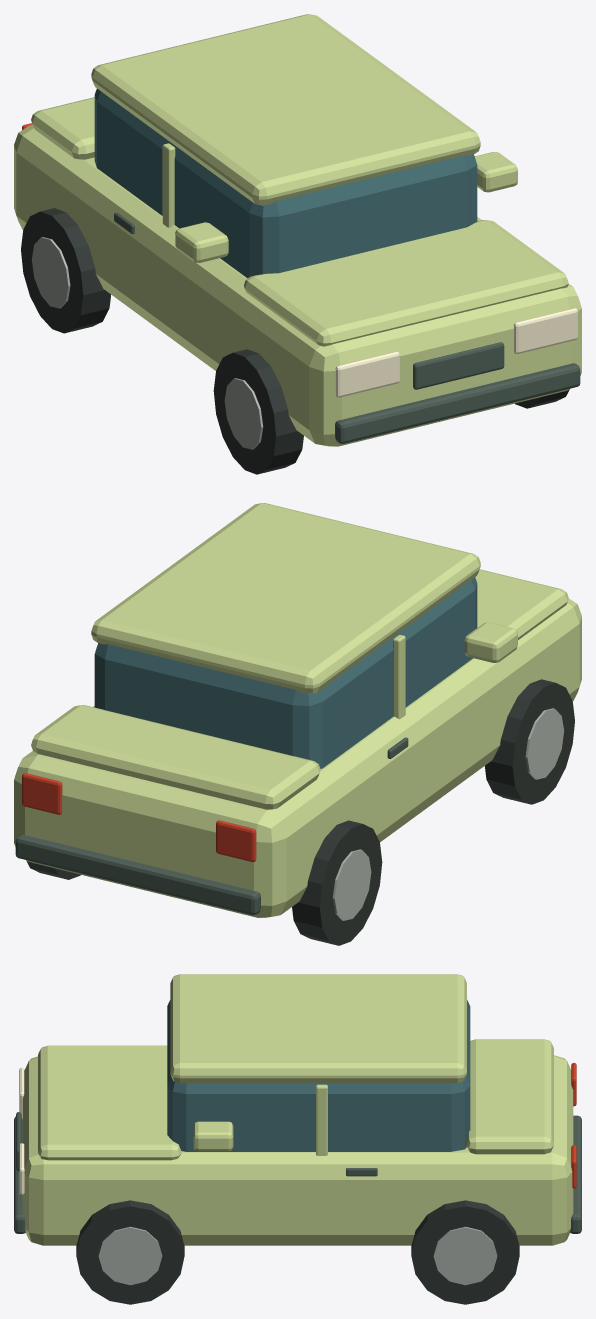
File: strahov-compact.glb
3 renders of one model, top to bottom at view 1: azimuth 30°, elevation 25°; view 2: azimuth 150°, elevation 25°; view 3: azimuth 270°, elevation 25°, orthographic. The views are drawn at different scales.
Visible parts, largest first — view 1: Roof, Car_body, Cabin, Bonnet, Front_bumper, Wheel_-1_-1.05, Wheel_-1_1.05, Rear_hatch, Front_grille, Headlight, Headlight.001, Wheel_hub (+4 smaller); view 2: Car_body, Roof, Cabin, Rear_hatch, Rear_bumper, Wheel_-1_1.05, Wheel_-1_-1.05, Bonnet, Wheel_hub.001, Wheel_hub, Mirror, Rear_light (+2 smaller); view 3: Car_body, Roof, Cabin, Bonnet, Rear_hatch, Wheel_1_1.05, Wheel_1_-1.05, Wheel_hub.002, Wheel_hub.003, Mirror.001, Rear_bumper, Door_pillar.001 (+1 smaller).
Part boxes in pixels (x1,y1,x2,y2): Roof: (91, 14, 480, 205); Car_body: (14, 125, 581, 446); Cabin: (94, 88, 477, 278); Bonnet: (244, 220, 568, 346); Front_bumper: (335, 363, 580, 443); Wheel_-1_-1.05: (213, 349, 303, 474); Wheel_-1_1.05: (21, 208, 110, 333); Rear_hatch: (31, 97, 94, 159); Front_grille: (413, 342, 504, 389); Headlight: (335, 352, 399, 397); Headlight.001: (513, 308, 577, 353); Wheel_hub: (224, 378, 263, 449); Car_body: (14, 598, 581, 917); Roof: (91, 503, 480, 693); Cabin: (94, 577, 477, 768); Rear_hatch: (31, 705, 320, 809); Rear_bumper: (15, 834, 260, 915); Wheel_-1_1.05: (292, 820, 382, 945); Wheel_-1_-1.05: (485, 679, 574, 804); Bonnet: (475, 569, 568, 639); Wheel_hub.001: (332, 849, 371, 920); Wheel_hub: (525, 708, 564, 779); Mirror: (464, 622, 517, 662); Rear_light: (216, 820, 256, 861); Car_body: (22, 1055, 573, 1245); Roof: (170, 974, 466, 1083); Cabin: (167, 1000, 470, 1151); Bonnet: (38, 1045, 181, 1160); Rear_hatch: (466, 1039, 553, 1154); Wheel_1_1.05: (411, 1200, 519, 1304); Wheel_1_-1.05: (76, 1200, 184, 1304); Wheel_hub.002: (98, 1226, 162, 1285); Wheel_hub.003: (433, 1226, 497, 1285); Mirror.001: (193, 1121, 233, 1151); Rear_bumper: (570, 1115, 581, 1233); Door_pillar.001: (316, 1084, 327, 1155).
Bounding box in the file's own units: 2.04 × 1.54 × 3.56.
